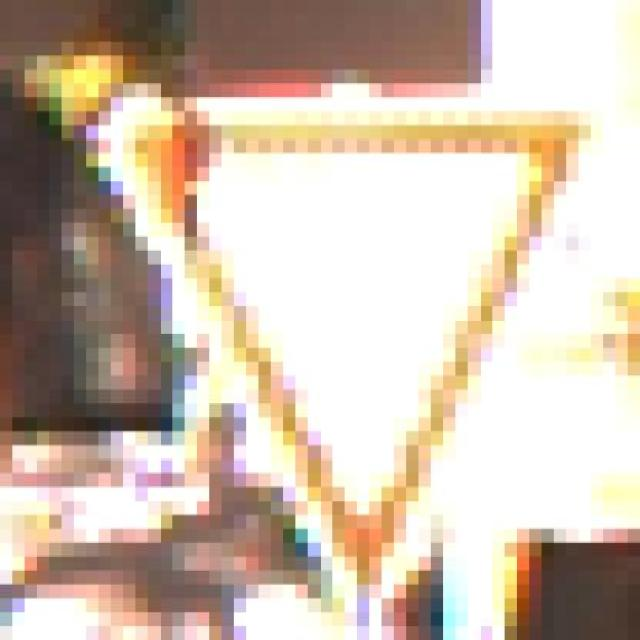Give Way: (111, 83, 591, 599)
